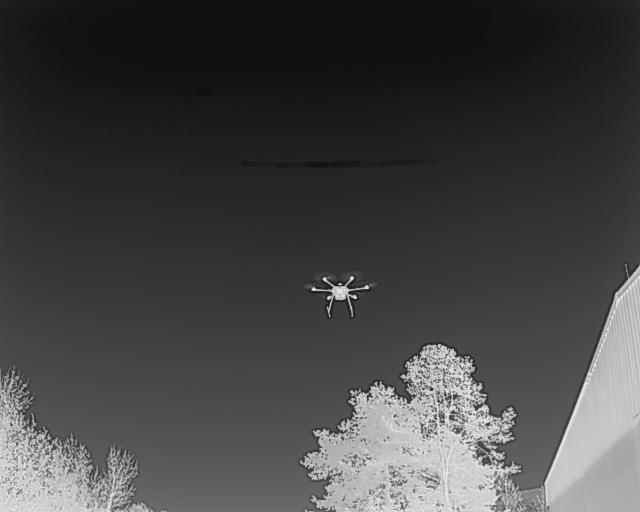drone: (300, 266, 375, 323)
